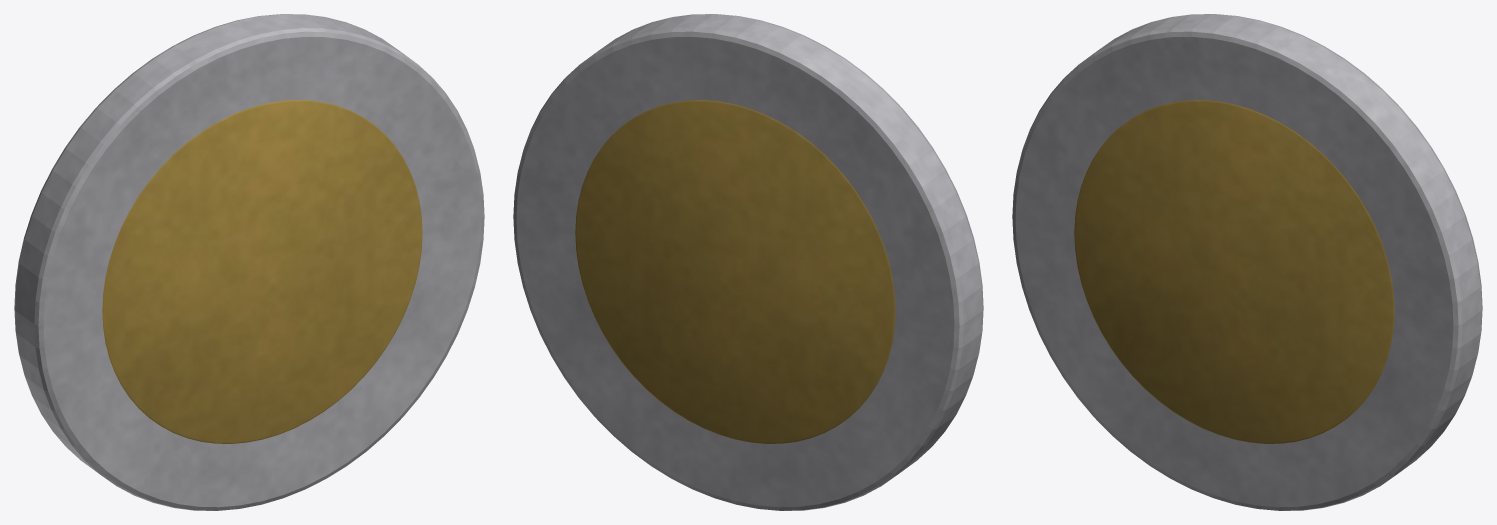
The picture shows the model from 3 angles, left to right: view 1: azimuth 30°, elevation 25°; view 2: azimuth 150°, elevation 25°; view 3: azimuth 330°, elevation 25°; orthographic projection.
Parts seen in each view (by area): view 1: ring, kern; view 2: ring, kern; view 3: ring, kern.
Boxes of the visible parts, x1=… form: ring: x1=14, y1=14, x2=484, y2=510; kern: x1=102, y1=100, x2=422, y2=443; ring: x1=513, y1=14, x2=983, y2=510; kern: x1=575, y1=100, x2=895, y2=443; ring: x1=1012, y1=14, x2=1482, y2=510; kern: x1=1074, y1=100, x2=1394, y2=443.
Size of the model in its own units: 0.0233 by 0.0233 by 0.0024.
2 materials, 2 textured.
